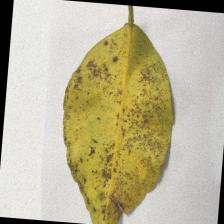canker: (76, 56, 155, 204)
